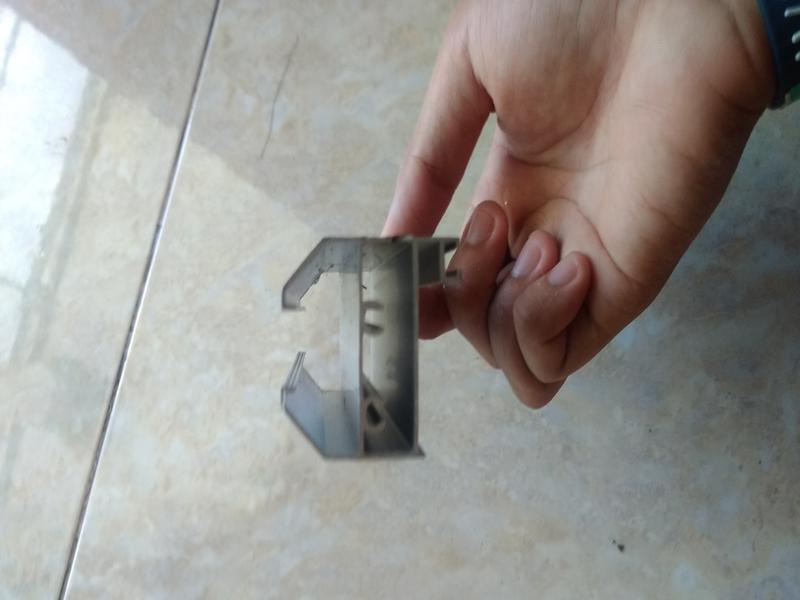Aluminium_3: (263, 207, 464, 474)
